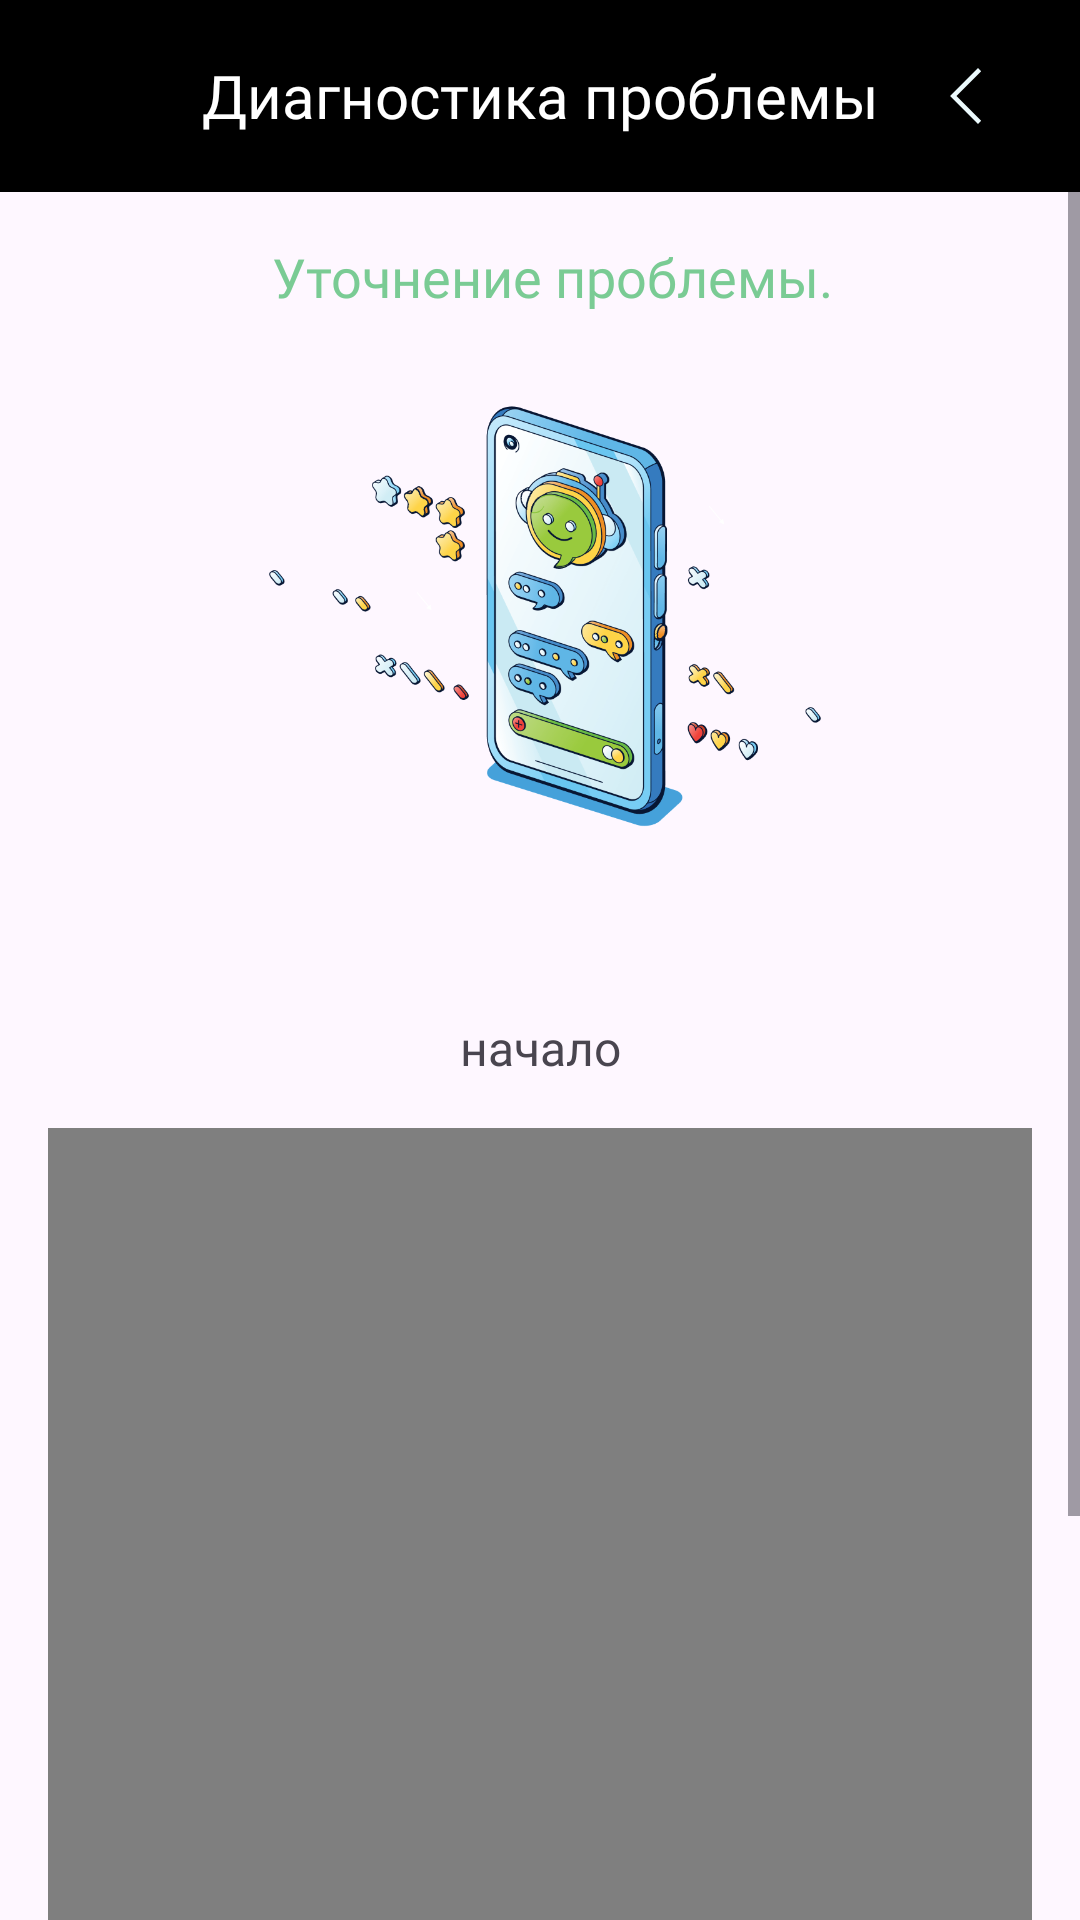

Point at icon controls on the screen. Image size 1080x1920, points as (x=x, y=y).
back: (x=965, y=96)
